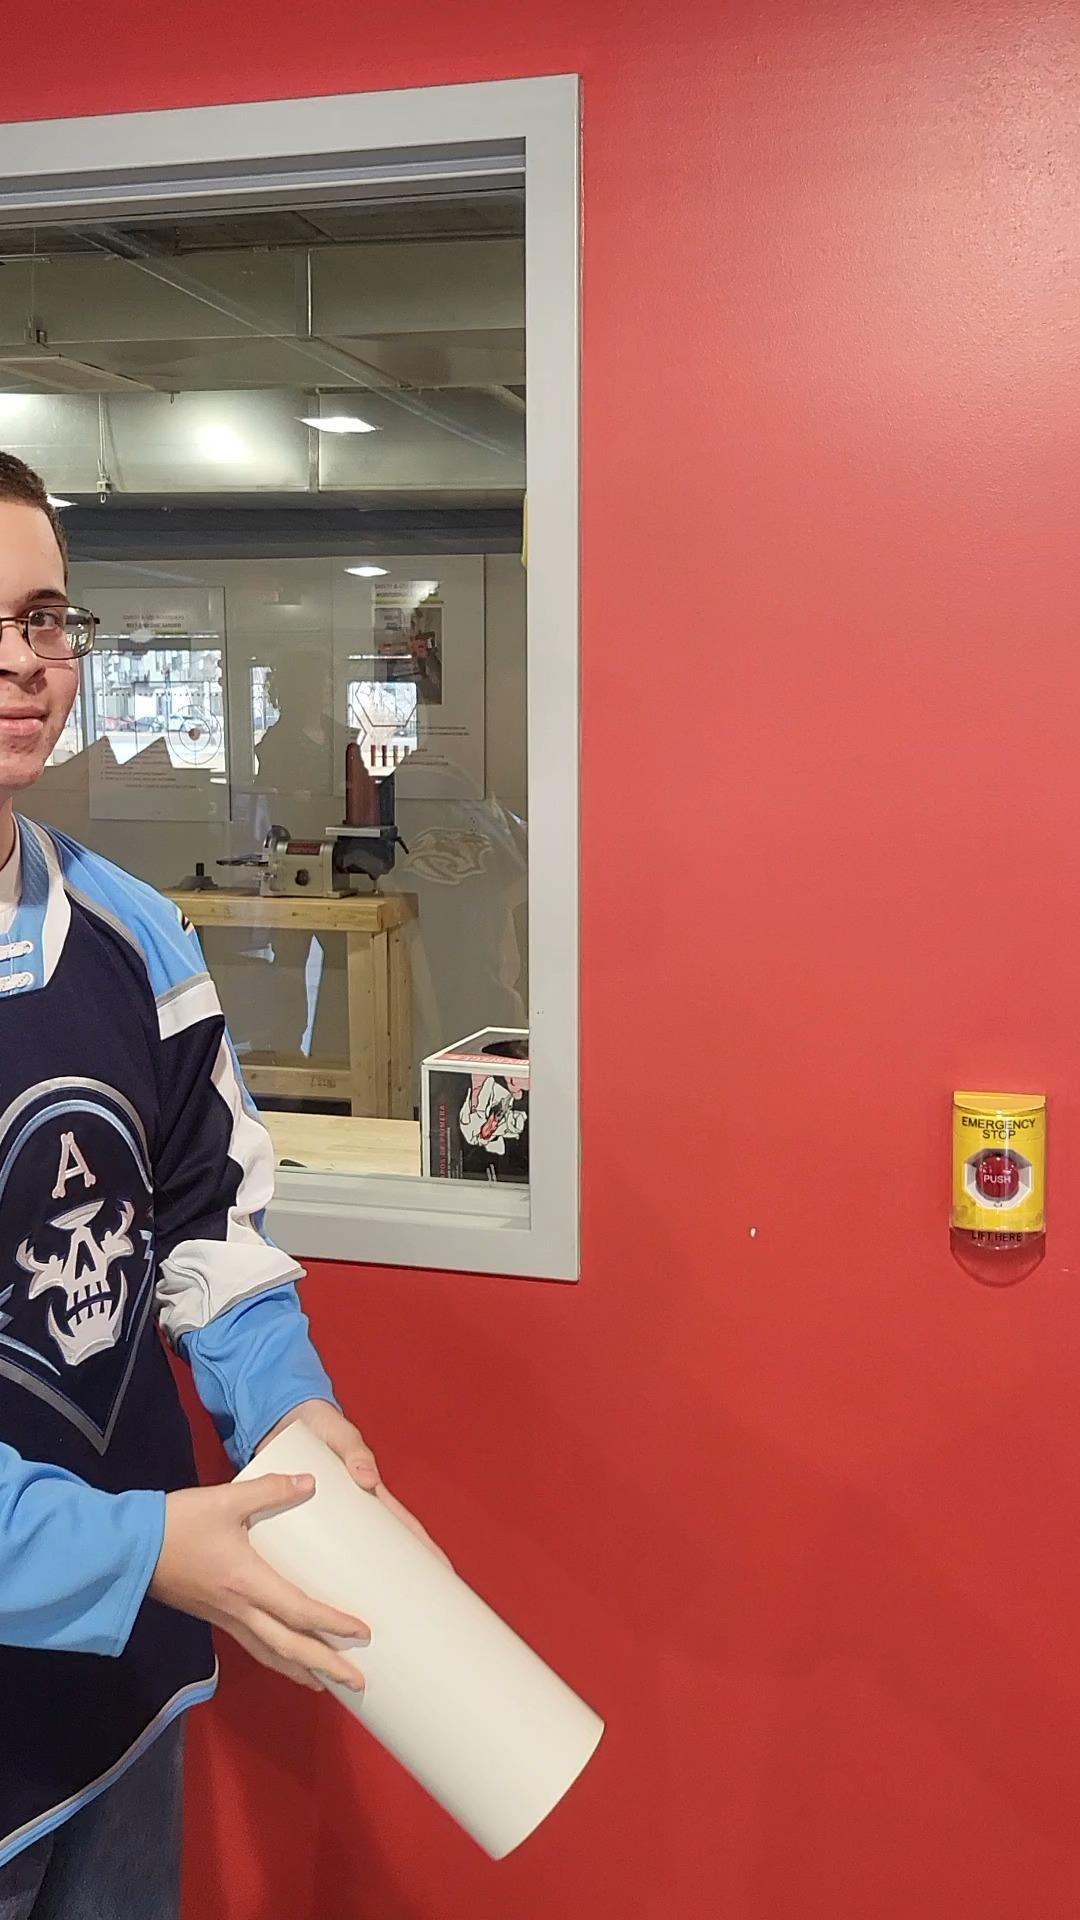coral: (223, 1416, 611, 1869)
